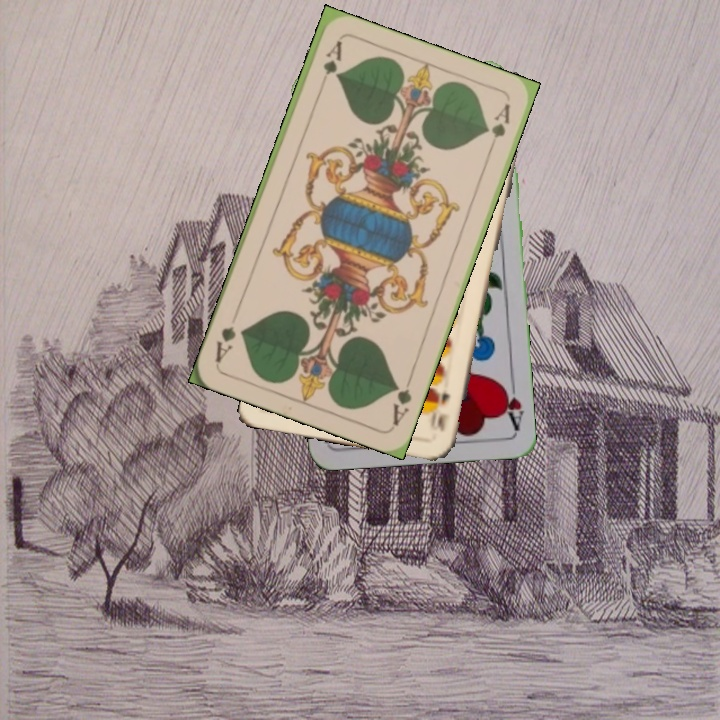E10: (433, 388, 453, 435)
GA: (388, 371, 416, 429), (319, 36, 345, 78)
HA: (497, 373, 526, 432)
